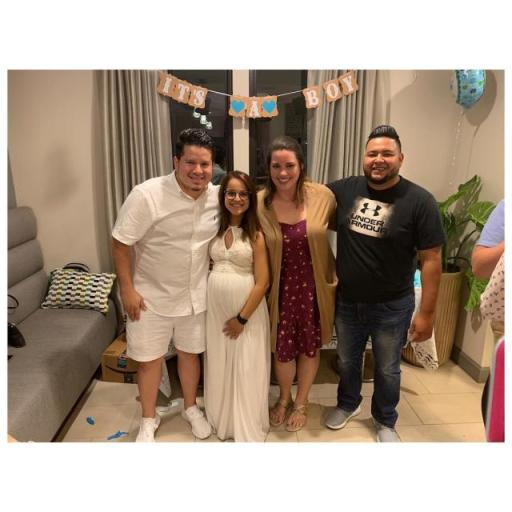Under Armour: (346, 198, 393, 236)
